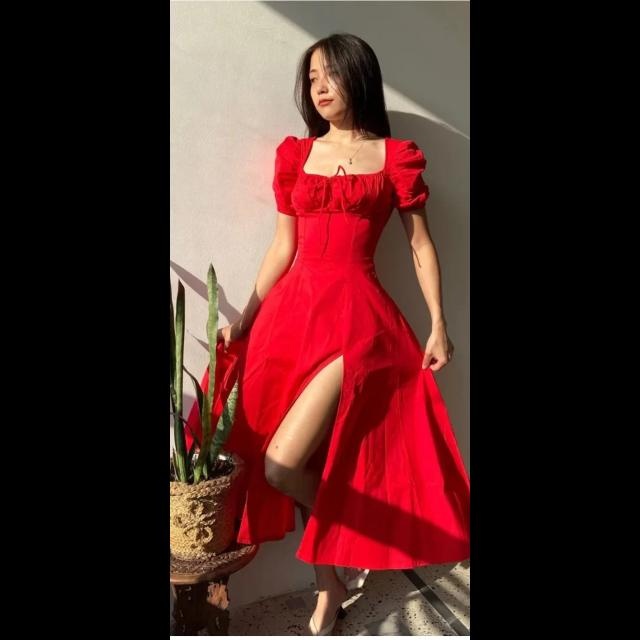dress: (231, 134, 467, 566)
